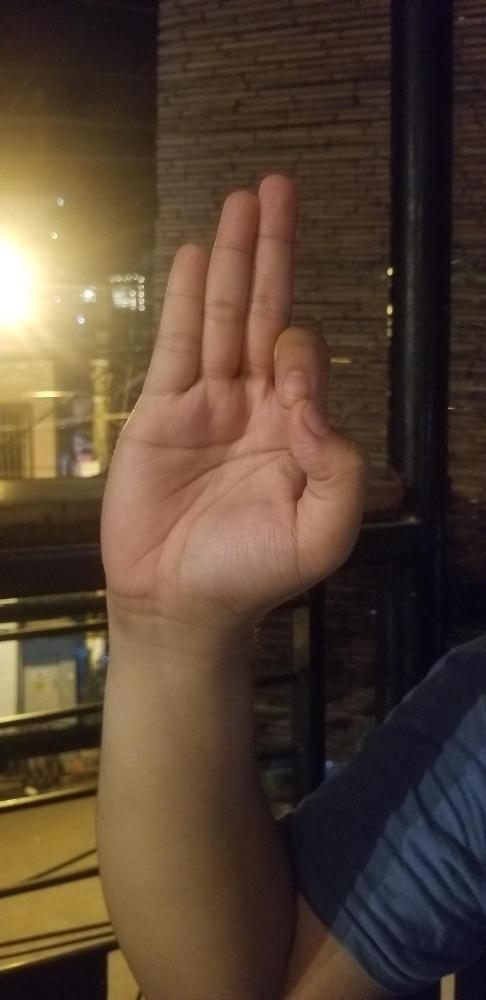f: (100, 173, 364, 595)
